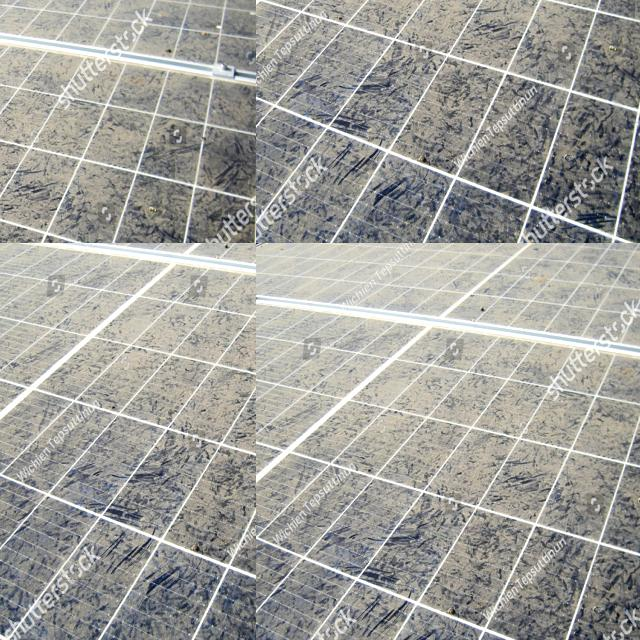dust: (256, 344, 486, 477), (525, 358, 636, 532), (256, 503, 369, 640), (320, 243, 455, 296), (567, 250, 640, 337), (256, 357, 302, 482), (458, 510, 496, 610), (530, 523, 559, 638), (605, 558, 640, 640)
panel: (0, 64, 64, 133), (0, 60, 74, 105), (0, 59, 46, 121), (0, 3, 33, 58), (0, 64, 37, 112), (33, 0, 74, 39), (38, 0, 77, 30), (0, 0, 32, 33), (0, 0, 25, 41), (0, 0, 21, 48), (0, 0, 40, 25), (0, 0, 31, 27), (0, 0, 27, 30), (0, 25, 34, 47), (0, 0, 39, 15), (0, 28, 24, 50), (0, 0, 18, 27), (0, 0, 8, 24)
shadow: (269, 0, 311, 23), (256, 0, 289, 19)
